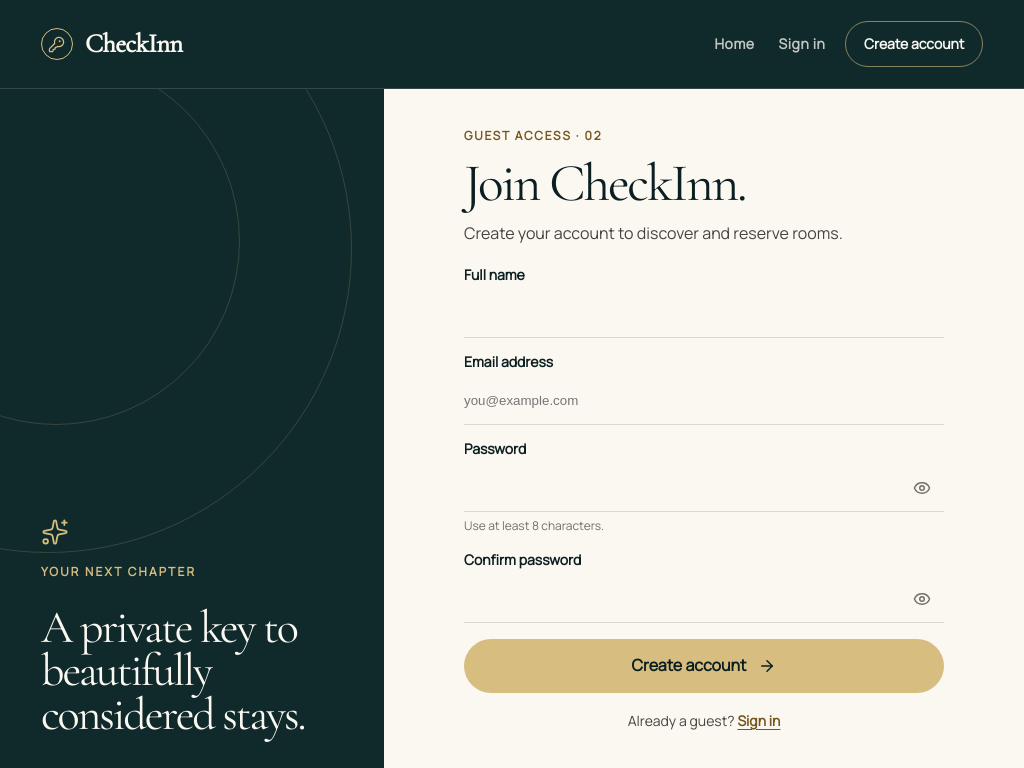
authentication routes › returns to sign in when automatic login fails after registration
Step 1. Type "Avery Guest" into the field labelled "Full name" → (704, 314), box [464,290,944,338]
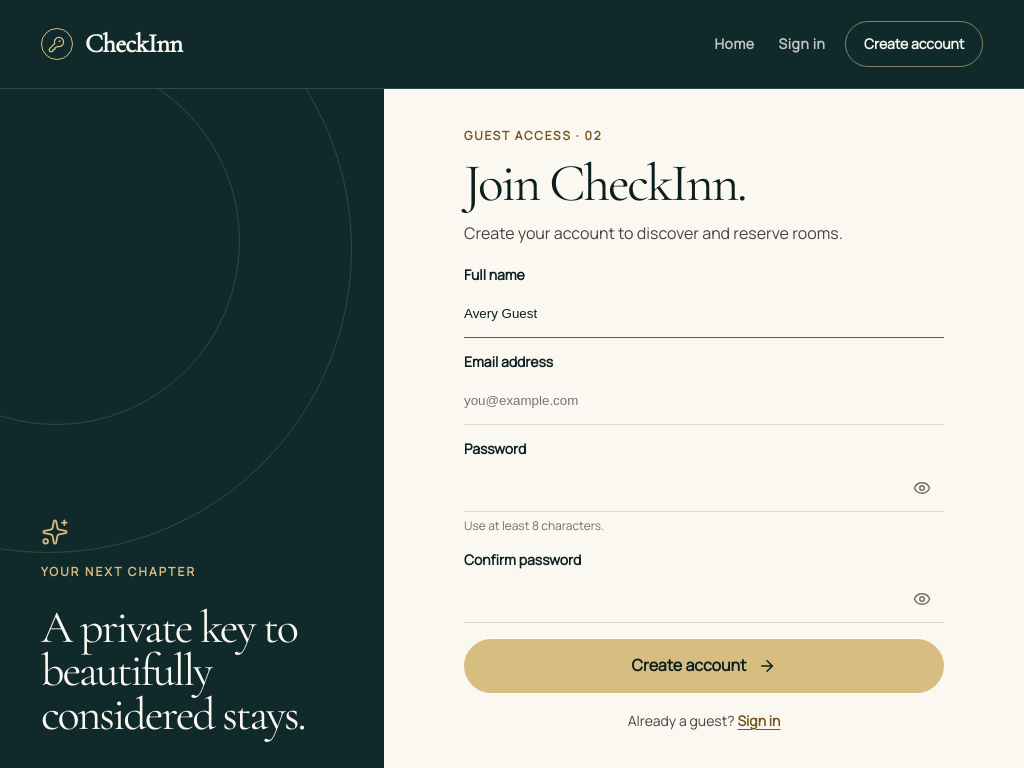
Step 2. Type "avery@example.com" into the field labelled "Email address" → (704, 401), box [464,377,944,425]
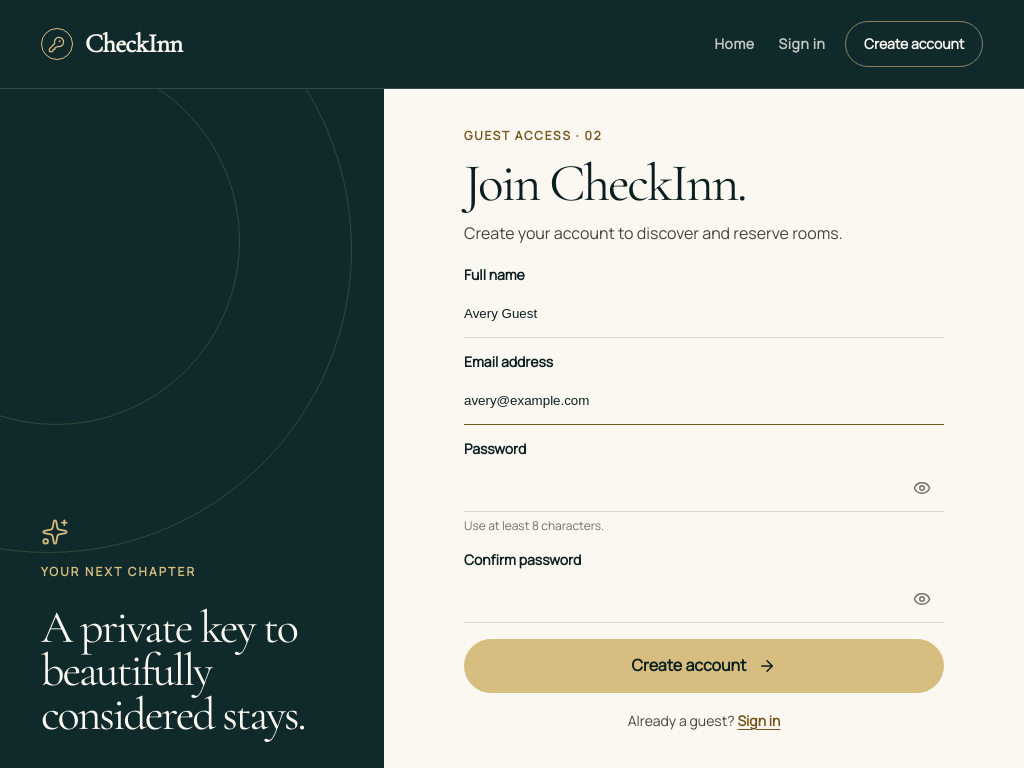
Step 3. Type "Password123!" into the password field labelled "Password" → (704, 488), box [464,464,944,512]
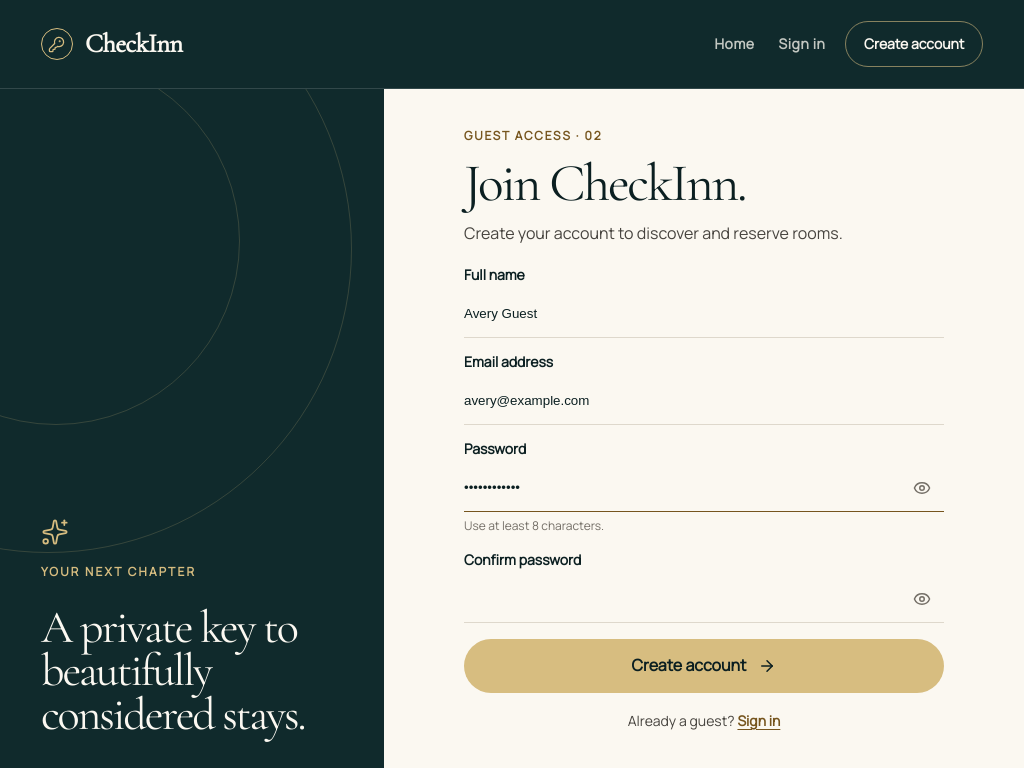
Step 4. Type "Password123!" into the password field labelled "Confirm password" → (704, 599), box [464,575,944,623]
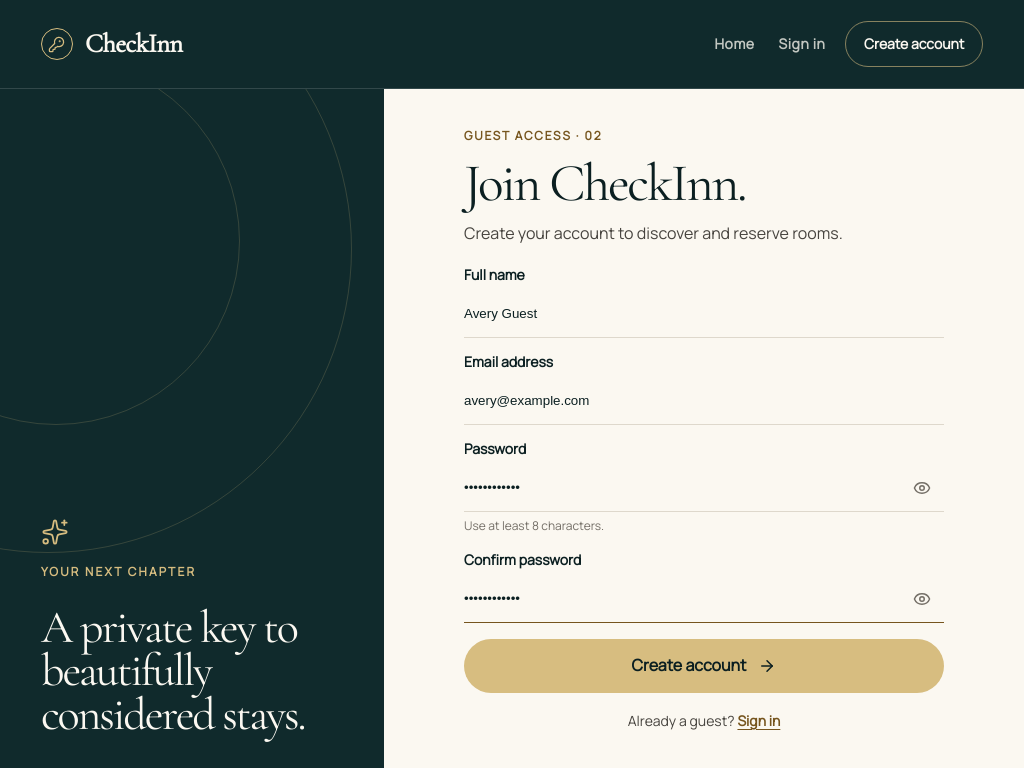
Step 5. Click the button "Create account" → (704, 666), box [464,639,944,693]
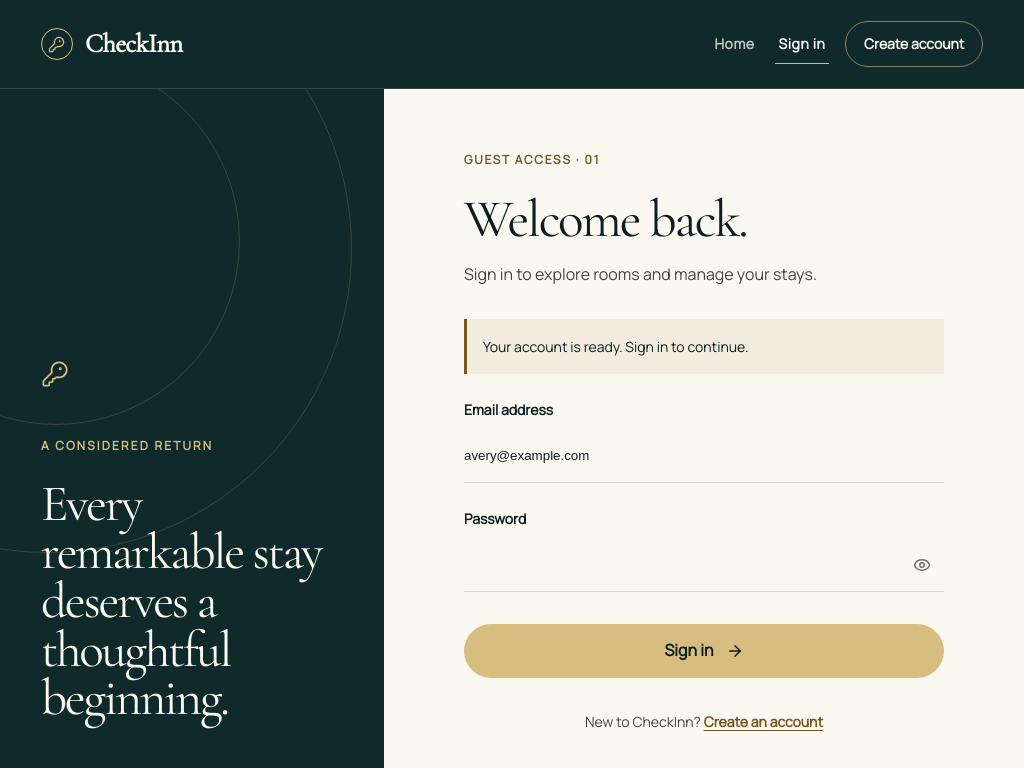
Expected: the field labelled "Email address" holds "avery@example.com", [464,429,944,483]
Expected: the text "Your account is ready. Sign in to continue." is shown, [464,319,944,374]
